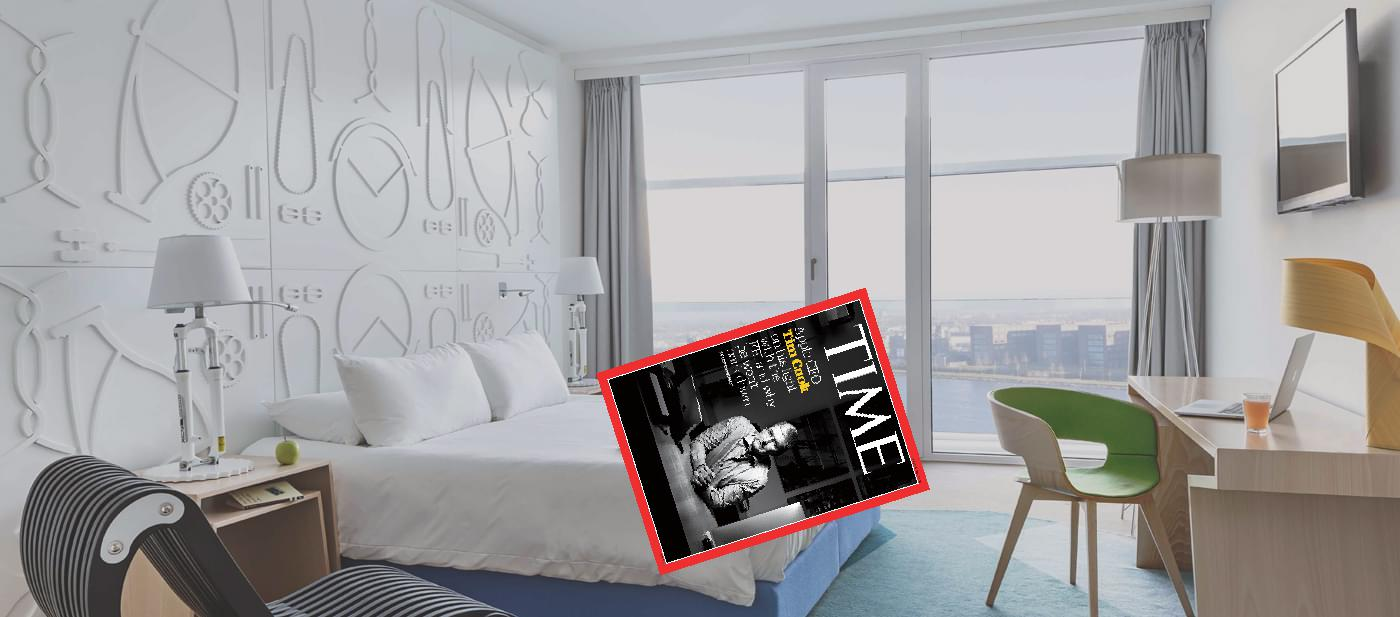times: (597, 286, 938, 574)
